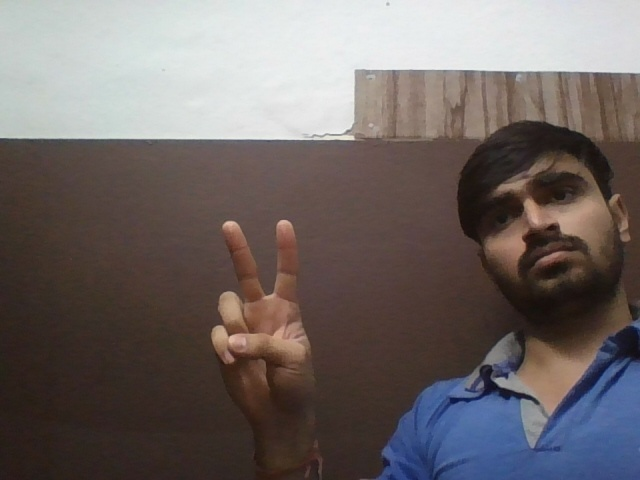V: (207, 214, 332, 408)
